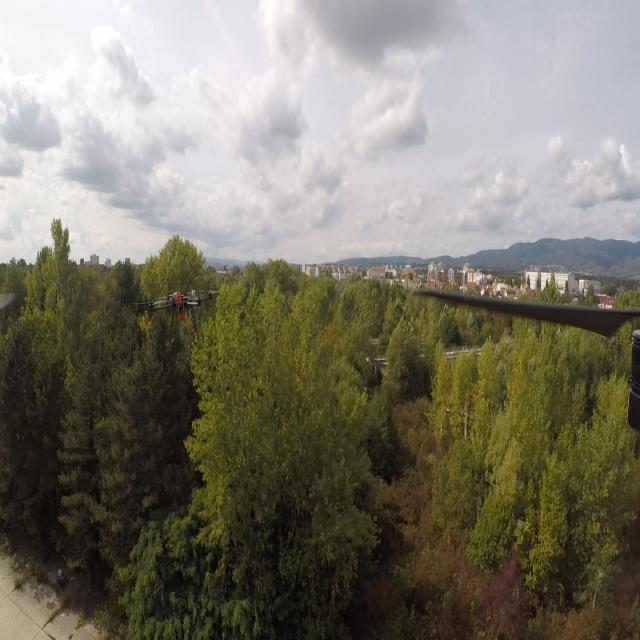UAV: (130, 282, 222, 356)
